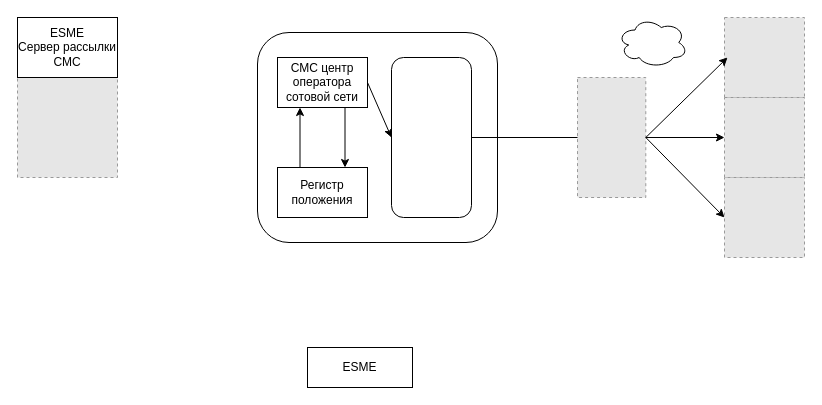
The diagram is 822 pixels wide and 405 high, and some of its shapes have lost their labels. Grey dashed boxes stand in for pictures. Each missing label, with the box of its shape:
GSM: (616, 16, 688, 68)
Центр коммутации оператора сотовой сети: (390, 56, 472, 218)
